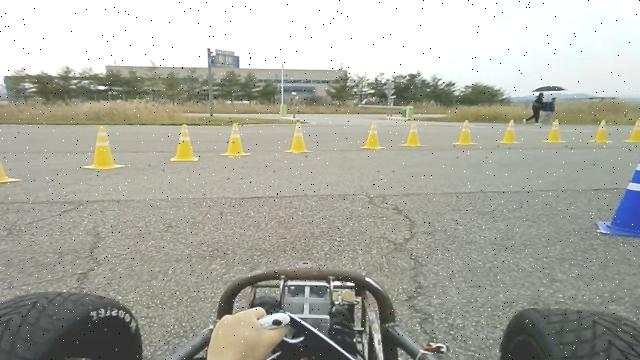yellow cone: (82, 125, 126, 170), (170, 123, 200, 162), (220, 122, 252, 157), (284, 120, 314, 154), (360, 120, 386, 150), (400, 120, 427, 147), (452, 118, 479, 145), (542, 118, 567, 144), (0, 156, 22, 184), (498, 119, 522, 144), (589, 119, 613, 143), (623, 119, 640, 143)
